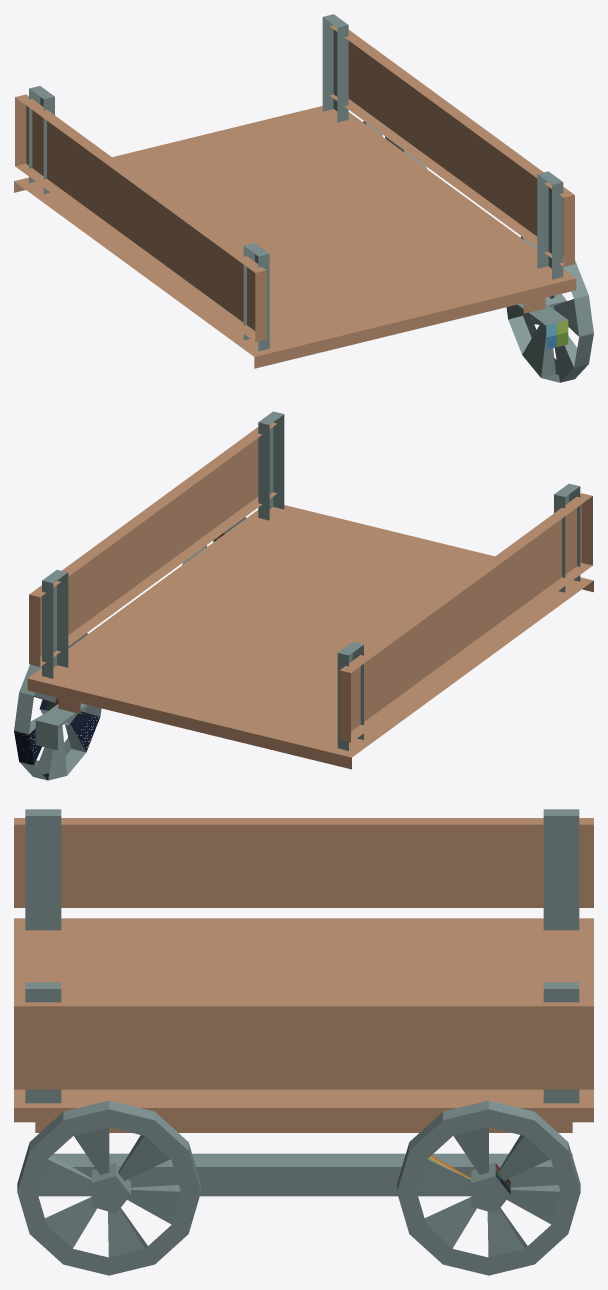
Rendered from carroEnemyTextured.fbx.
The picture shows the model from 3 angles, top to bottom: view 1: azimuth 30°, elevation 25°; view 2: azimuth 150°, elevation 25°; view 3: azimuth 270°, elevation 25°; orthographic projection. The views are drawn at different scales.
Visible parts, largest first — view 1: Cube, Cube.002, Cube.001, Cylinder.002, Cube.006, Cube.005, Cube.004, Cube.009, Cube.003; view 2: Cube, Cube.002, Cube.001, Cylinder.001, Cube.006, Cube.005, Cube.009, Cube.003, Cube.004; view 3: Cube, Cube.001, Cube.002, Cylinder.002, Cylinder.001, Cube.009, Cube.004, Cube.003, Cube.007, Cube.005, Cube.006.
Part boxes in pixels (<box>): Cube: <box>14,106,576,368</box>; Cube.002: <box>15,94,266,341</box>; Cube.001: <box>329,25,574,266</box>; Cylinder.002: <box>506,236,593,382</box>; Cube.006: <box>322,14,348,122</box>; Cube.005: <box>537,171,563,279</box>; Cube.004: <box>243,243,269,351</box>; Cube.009: <box>515,303,568,349</box>; Cube.003: <box>29,86,54,193</box>; Cube: <box>27,505,593,769</box>; Cube.002: <box>339,493,592,742</box>; Cube.001: <box>29,422,276,666</box>; Cylinder.001: <box>14,633,101,780</box>; Cube.006: <box>42,569,68,678</box>; Cube.005: <box>258,411,284,520</box>; Cube.009: <box>35,703,88,750</box>; Cube.003: <box>337,642,363,750</box>; Cube.004: <box>554,483,580,592</box>; Cube: <box>14,918,593,1122</box>; Cube.001: <box>14,999,593,1089</box>; Cube.002: <box>14,818,593,907</box>; Cylinder.002: <box>17,1100,200,1275</box>; Cylinder.001: <box>397,1100,580,1275</box>; Cube.009: <box>37,1153,572,1196</box>; Cube.004: <box>25,809,61,930</box>; Cube.003: <box>543,809,579,930</box>; Cube.007: <box>35,1122,572,1132</box>; Cube.005: <box>25,982,61,1103</box>; Cube.006: <box>543,982,579,1103</box>.
Bounding box in the file's own units: 670 × 809 × 417.
Materials: 2 (2 with a texture image).
